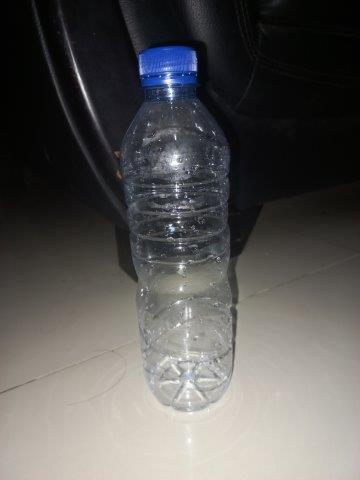botolplastik: (121, 45, 236, 410)
